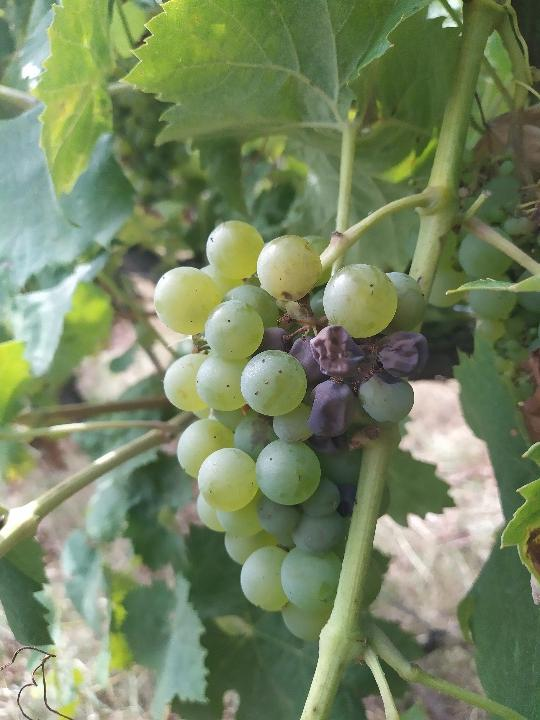grape: (151, 217, 429, 645)
